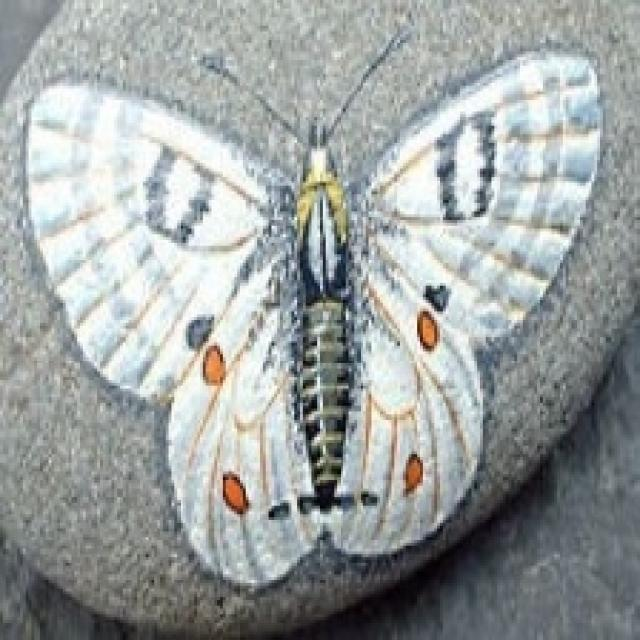butterfly: (17, 17, 606, 592)
